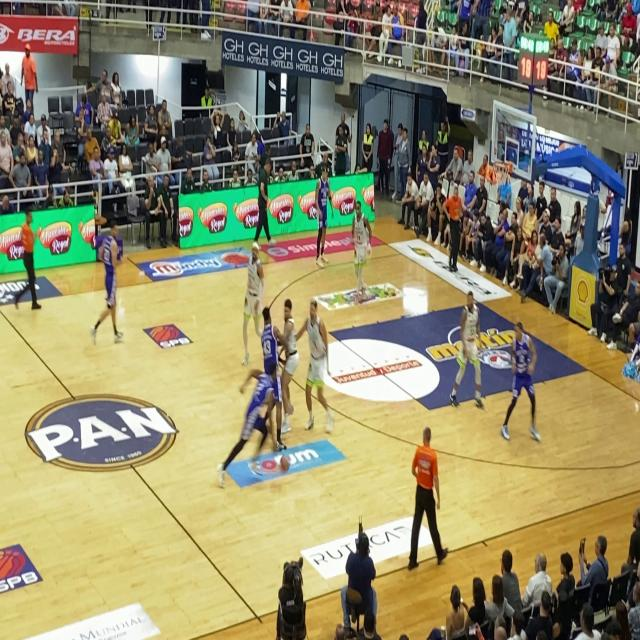Ball: (278, 449, 292, 478)
referee: (412, 421, 451, 579), (16, 200, 42, 324), (438, 176, 465, 284)
team1: (448, 284, 489, 414), (303, 287, 337, 439), (235, 232, 267, 364), (345, 191, 378, 304), (277, 280, 301, 435)
team2: (224, 354, 284, 486), (498, 301, 544, 454), (89, 209, 125, 355), (314, 163, 336, 276), (257, 301, 284, 392)
ubasket: (493, 157, 512, 189)
